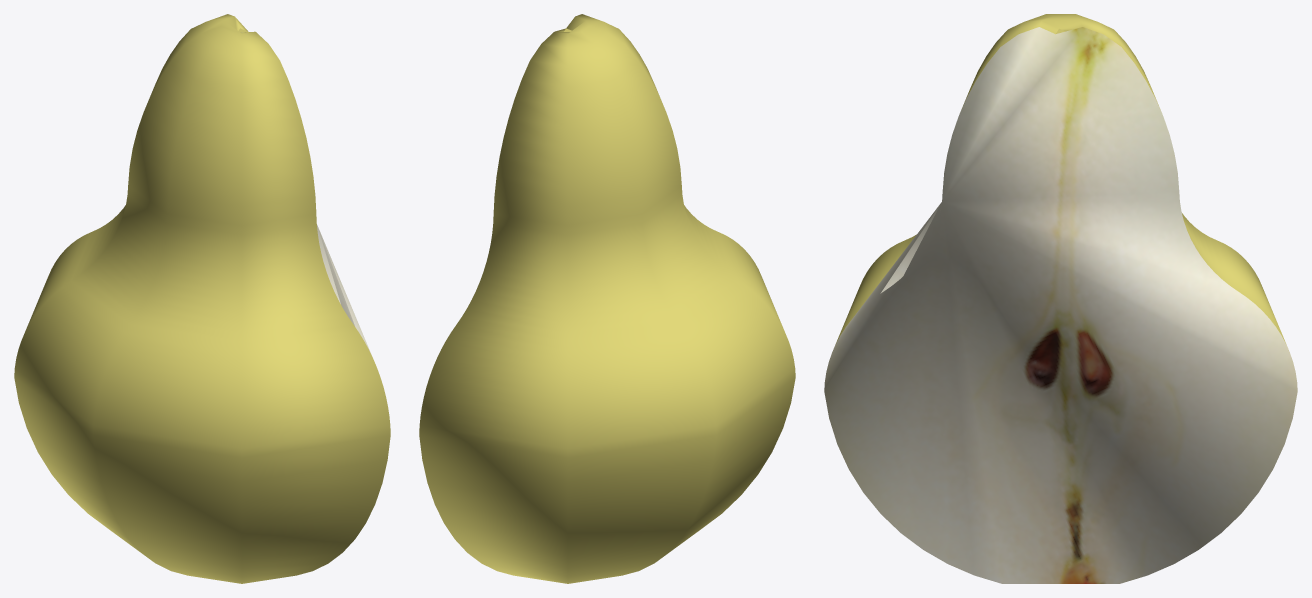
Rendered from PearCut.fbx.
The picture shows the model from 3 angles, left to right: view 1: azimuth 30°, elevation 25°; view 2: azimuth 150°, elevation 25°; view 3: azimuth 270°, elevation 25°; orthographic projection. The views are drawn at different scales.
Parts seen in each view (by area): view 1: Mesh17 pear1 bowl_of_fruit1 Model.001; view 2: Mesh17 pear1 bowl_of_fruit1 Model.001; view 3: Mesh17 pear1 bowl_of_fruit1 Model.001.
Boxes of the visible parts, x1=… form: Mesh17 pear1 bowl_of_fruit1 Model.001: x1=14, y1=14, x2=390, y2=583; Mesh17 pear1 bowl_of_fruit1 Model.001: x1=419, y1=14, x2=795, y2=583; Mesh17 pear1 bowl_of_fruit1 Model.001: x1=824, y1=14, x2=1297, y2=583.
Size of the model in its own units: 509 by 1163 by 901.
